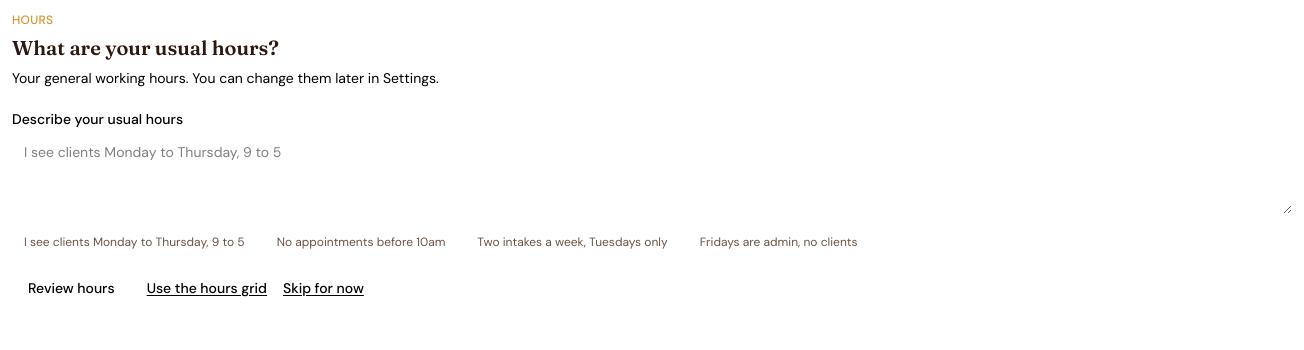
Scenario: CalendarHoursStep › asks again when the parser is unsure rather than guessing
In the text box labelled "Describe your usual hours": (652, 174) [12,134,1292,214], type "afternoons I guess"
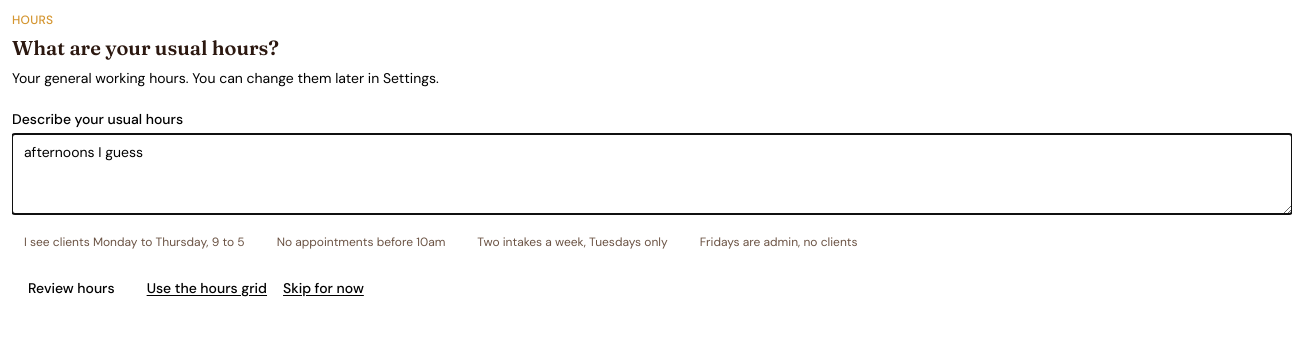
Click the button "Review hours": (71, 288) [12,270,131,306]
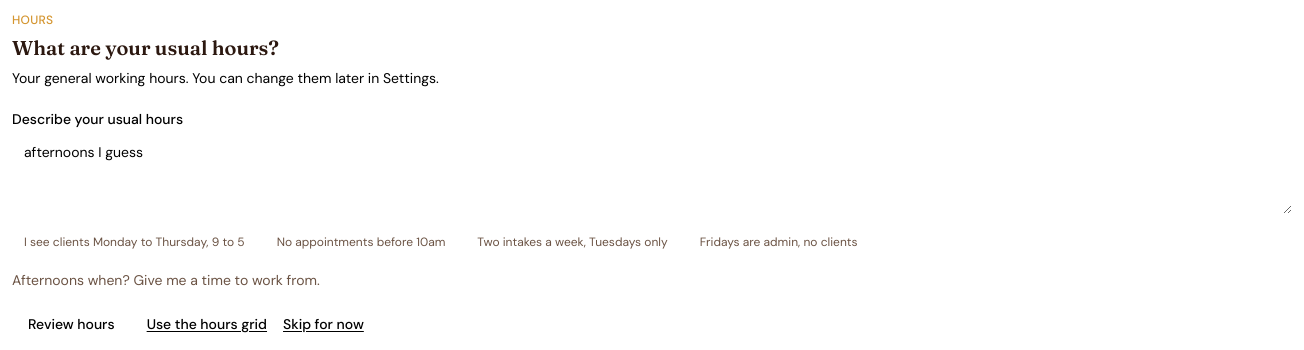
Now the text "Afternoons when? Give me a time to work from." is shown, box [12,271,320,289]
